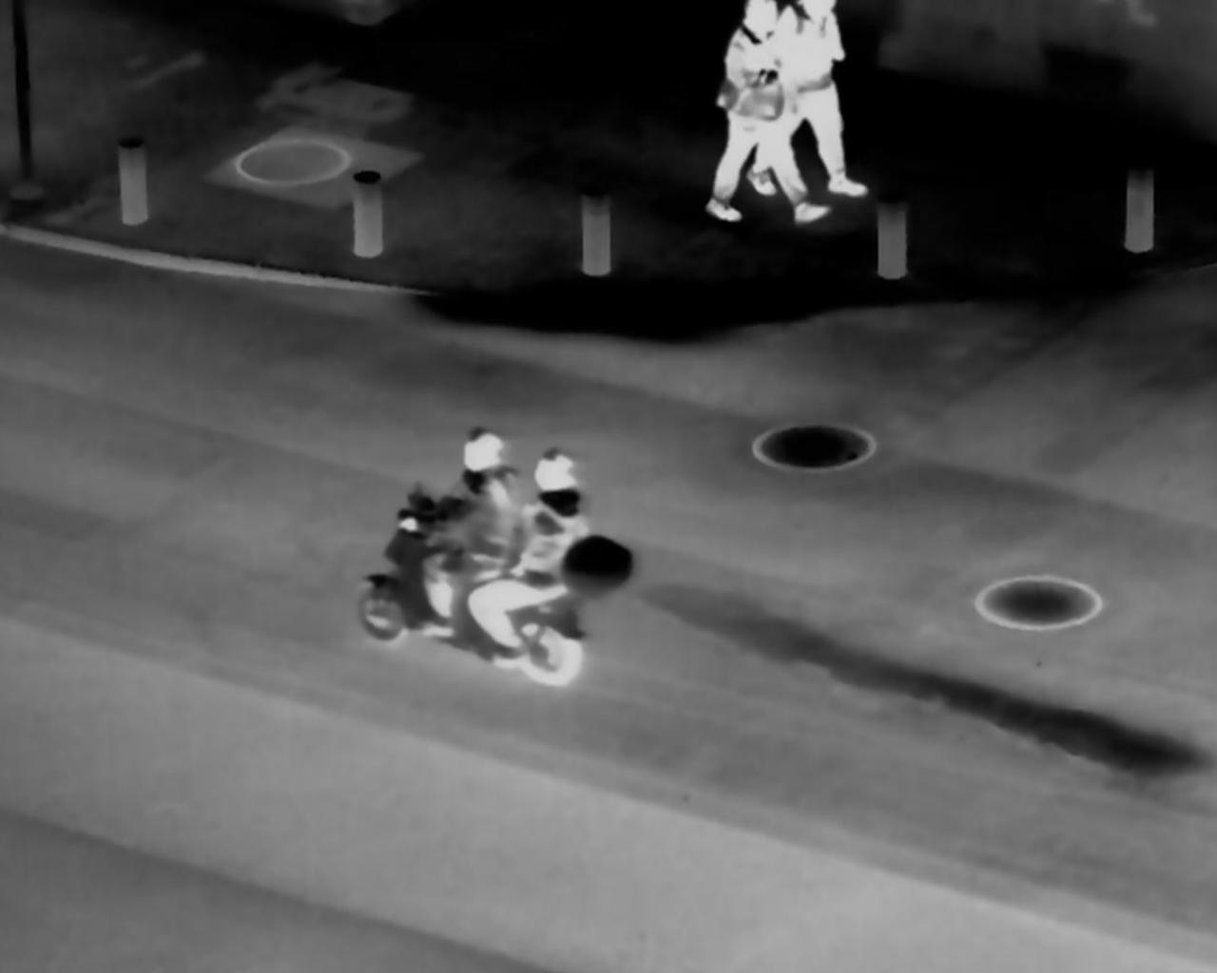person: (488, 439, 593, 659), (762, 2, 867, 208), (422, 418, 522, 621)
